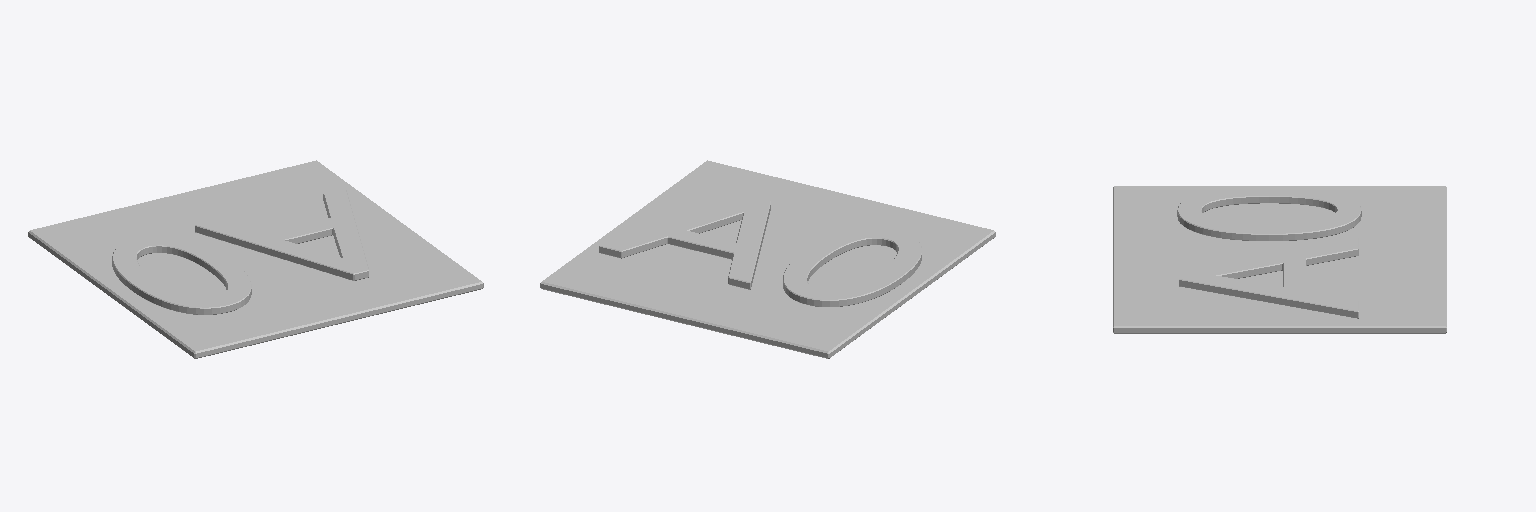
Rendered from panel_A0.obj.
3 views of the same model, side by side, from view 1: azimuth 30°, elevation 25°; view 2: azimuth 150°, elevation 25°; view 3: azimuth 270°, elevation 25° (orthographic).
Parts seen in each view (by area): view 1: Plane, Text; view 2: Plane, Text; view 3: Plane, Text.
Boxes of the visible parts, x1,y1,x2,y2 form: Plane: [28, 160, 483, 358]; Text: [112, 188, 368, 314]; Plane: [540, 160, 995, 358]; Text: [599, 196, 921, 306]; Plane: [1113, 186, 1446, 333]; Text: [1177, 186, 1361, 318].
Size of the model in its own units: 4 by 0.2 by 4.